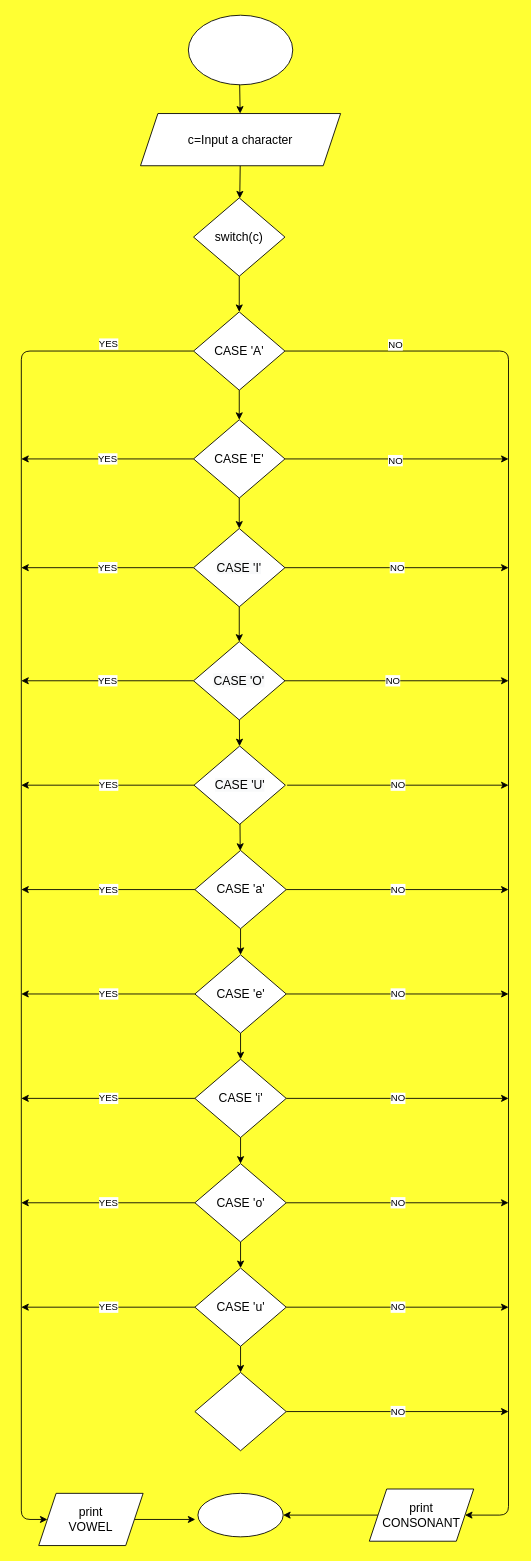
The diagram is 531 pixels wide and 1561 high, and some of its shapes have lost their labels. Each missing label, with the centre of its shape:
"default" belongs at pixel 240 1411.
"End" belongs at pixel 240 1514.
"START" belongs at pixel 240 49.
